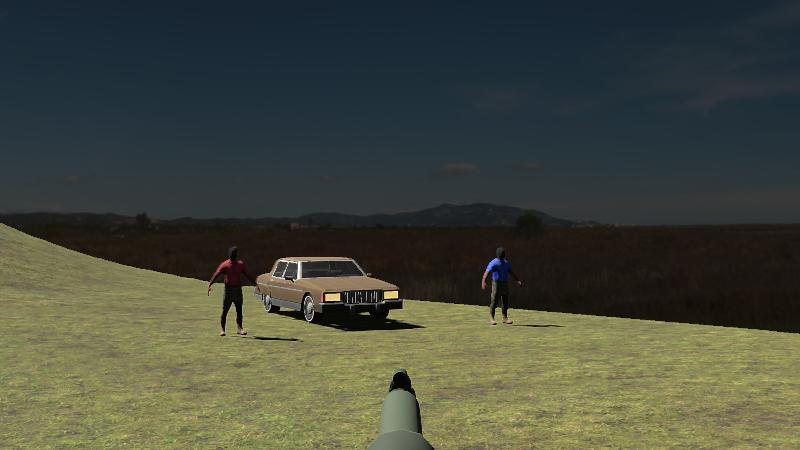Human: (208, 246, 256, 337), (482, 247, 523, 326)
car: (254, 255, 403, 324)
